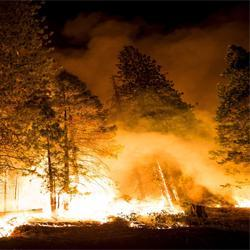fire: (1, 174, 49, 221), (70, 178, 116, 218), (122, 201, 177, 214)
